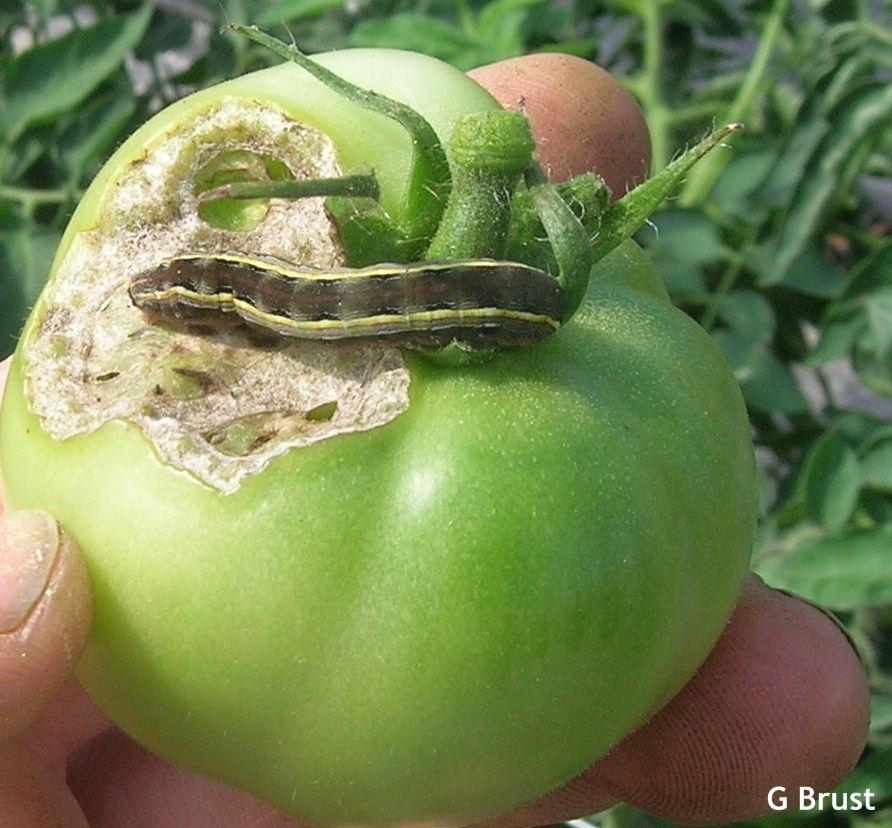Armyworm: (107, 228, 573, 367)
